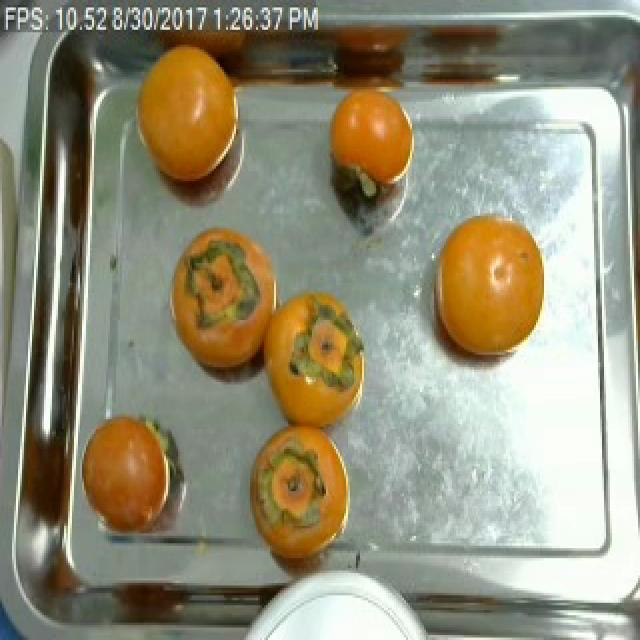Fruit: (422, 203, 556, 370), (162, 216, 286, 384), (240, 412, 360, 578), (124, 37, 248, 191), (78, 402, 186, 546), (318, 84, 422, 206)
